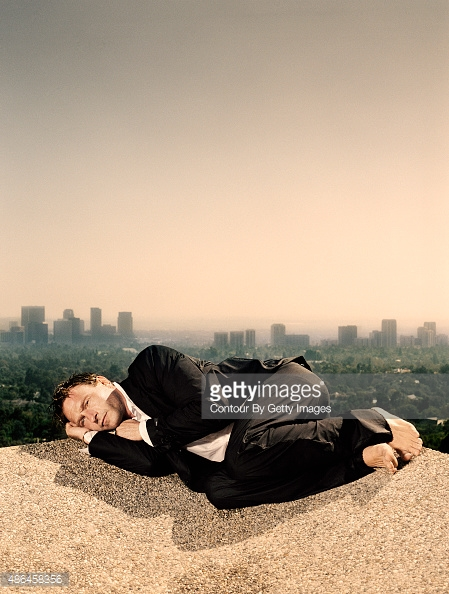deitado: (35, 346, 341, 502)
